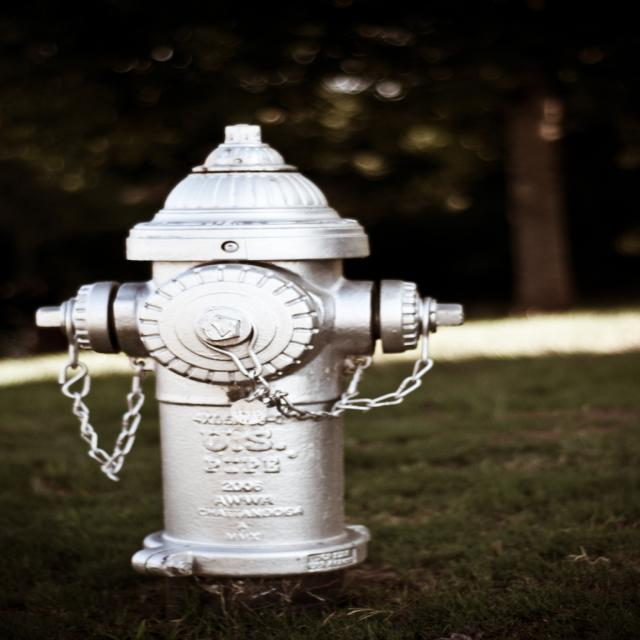fire_hydrant: (38, 124, 462, 574)
